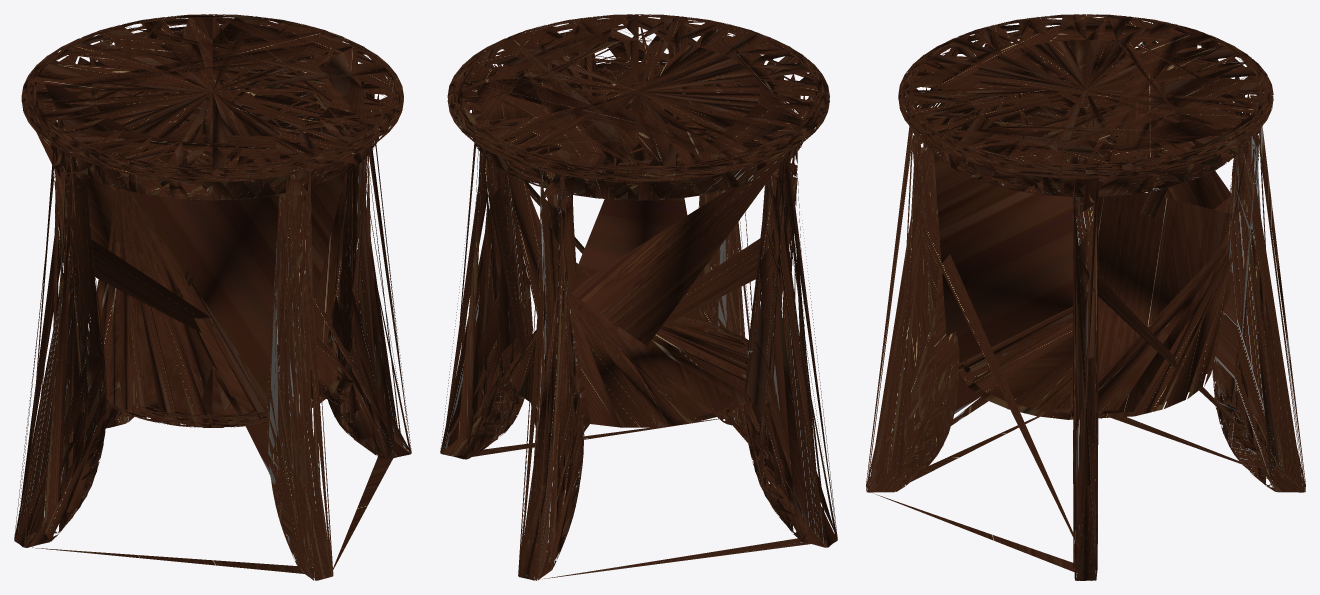
Rendered from ph-side-table-tall-01.glb.
3 views of the same model, side by side, from view 1: azimuth 30°, elevation 25°; view 2: azimuth 150°, elevation 25°; view 3: azimuth 270°, elevation 25° (orthographic).
Parts seen in each view (by area): view 1: side_table_tall_01; view 2: side_table_tall_01; view 3: side_table_tall_01.
Part boxes in pixels (left/top/right/bottom): side_table_tall_01: left=14, top=14, right=411, bottom=580; side_table_tall_01: left=440, top=14, right=837, bottom=580; side_table_tall_01: left=866, top=14, right=1305, bottom=580.
Bounding box in the file's own units: 1 × 1 × 1.
Materials: 1 (1 with a texture image).
